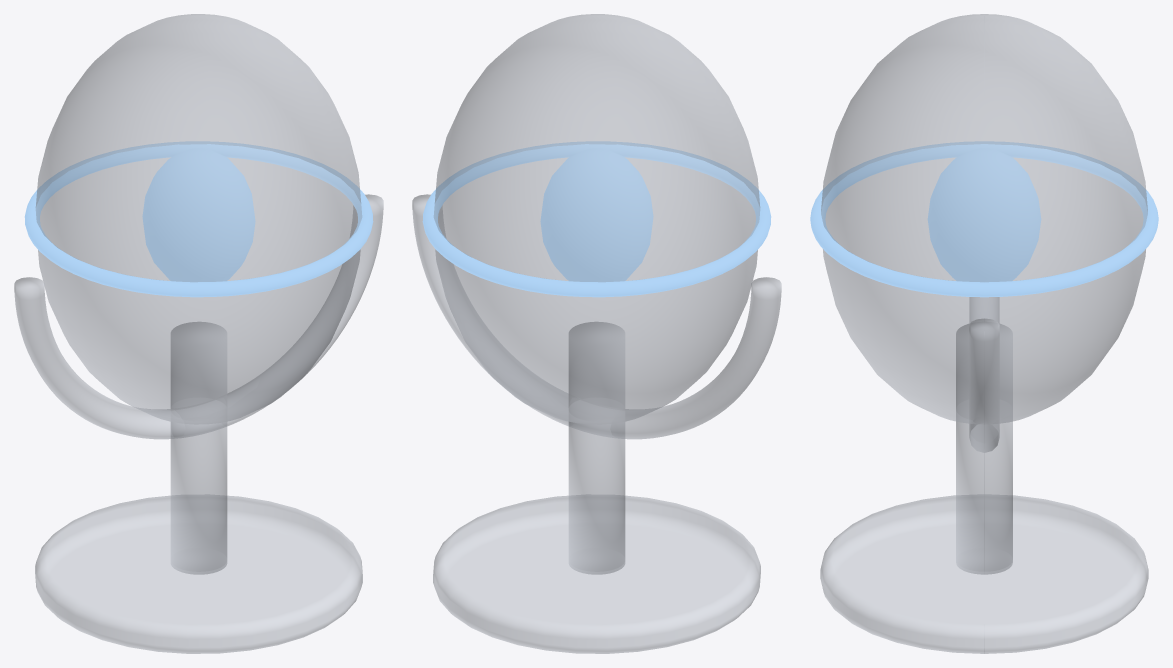
The model's file is standardiste.glb.
3 renders of one model, left to right at view 1: azimuth 30°, elevation 25°; view 2: azimuth 150°, elevation 25°; view 3: azimuth 270°, elevation 25°, orthographic.
Parts seen in each view (by area): view 1: capsule, pied, fourche, tige, coeur, voix; view 2: capsule, pied, fourche, tige, coeur, voix; view 3: capsule, pied, coeur, voix, tige, fourche.
Part boxes in pixels (x1,y1,x2,y2): capsule: [35, 14, 361, 424]; pied: [35, 494, 362, 653]; fourche: [14, 194, 383, 439]; tige: [170, 322, 227, 574]; coeur: [142, 148, 255, 281]; voix: [24, 141, 373, 297]; capsule: [434, 14, 760, 424]; pied: [433, 494, 760, 653]; fourche: [412, 194, 781, 439]; tige: [568, 322, 625, 574]; coeur: [540, 148, 653, 281]; voix: [422, 141, 771, 297]; capsule: [821, 14, 1147, 424]; pied: [820, 494, 1148, 653]; coeur: [927, 148, 1041, 281]; voix: [810, 141, 1158, 297]; tige: [956, 323, 1012, 574]; fourche: [969, 297, 999, 452].
Size of the model in its own units: 0.668 by 0.983 by 0.552.
